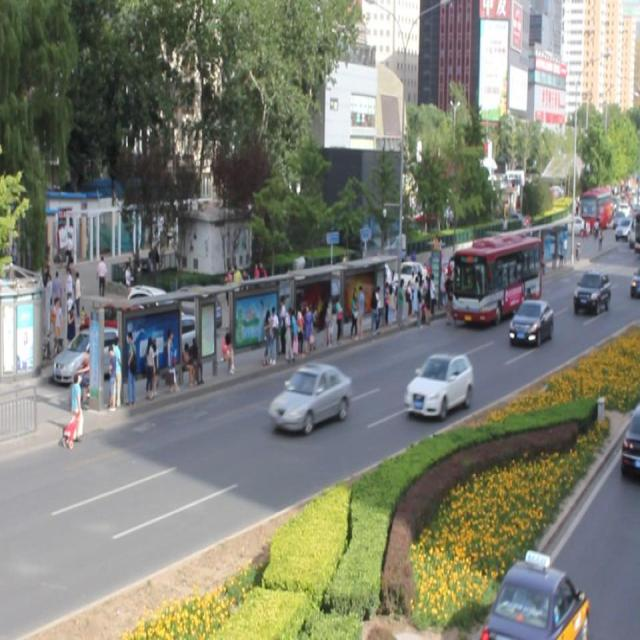car: (269, 361, 351, 434), (404, 352, 471, 416), (508, 298, 552, 347), (572, 270, 610, 314)
van: (447, 232, 538, 326)
